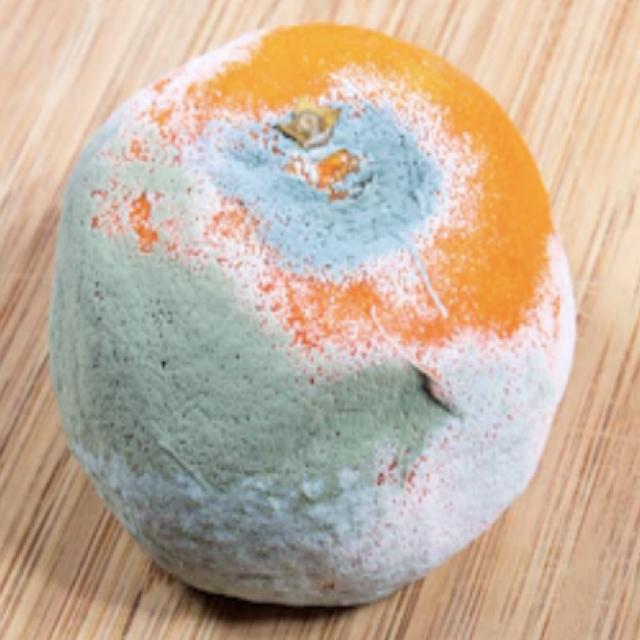rotten-orange: (43, 21, 577, 604)
